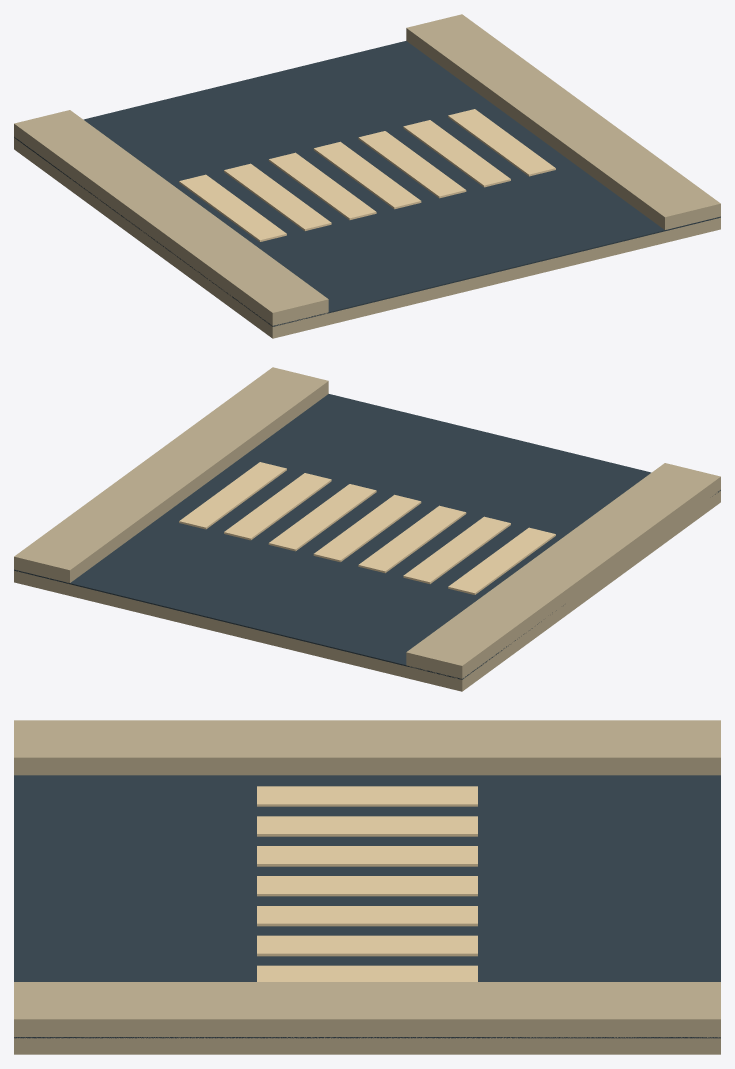
File: crosswalk.glb
The picture shows the model from 3 angles, top to bottom: view 1: azimuth 30°, elevation 25°; view 2: azimuth 150°, elevation 25°; view 3: azimuth 270°, elevation 25°; orthographic projection. The views are drawn at different scales.
Parts seen in each view (by area): view 1: asphalt, closed_edge.001, closed_edge, tile, corner_pavement, corner_pavement.002, zebra.004, zebra.006, zebra.003, zebra.005, zebra.002, zebra (+3 smaller); view 2: asphalt, closed_edge.001, closed_edge, tile, corner_pavement.001, corner_pavement.003, zebra.004, zebra.006, zebra.003, zebra.005, zebra.002, zebra (+3 smaller); view 3: asphalt, closed_edge.001, closed_edge, tile, corner_pavement, corner_pavement.001, corner_pavement.002, corner_pavement.003, zebra.005, zebra, zebra.001, zebra.002 (+3 smaller).
Boxes of the visible parts, x1=… form: asphalt: x1=14, y1=41, x2=720, y2=326; closed_edge.001: x1=46, y1=133, x2=295, y2=302; closed_edge: x1=438, y1=38, x2=687, y2=206; tile: x1=14, y1=138, x2=720, y2=338; corner_pavement: x1=240, y1=275, x2=328, y2=326; corner_pavement.002: x1=632, y1=180, x2=720, y2=229; zebra.004: x1=358, y1=131, x2=466, y2=198; zebra.006: x1=448, y1=109, x2=555, y2=176; zebra.003: x1=313, y1=141, x2=421, y2=209; zebra.005: x1=403, y1=120, x2=510, y2=187; zebra.002: x1=268, y1=152, x2=376, y2=220; zebra: x1=179, y1=174, x2=286, y2=241; asphalt: x1=14, y1=394, x2=720, y2=679; closed_edge.001: x1=439, y1=486, x2=688, y2=655; closed_edge: x1=47, y1=391, x2=296, y2=559; tile: x1=14, y1=491, x2=720, y2=691; corner_pavement.001: x1=406, y1=628, x2=494, y2=679; corner_pavement.003: x1=14, y1=533, x2=102, y2=583; zebra.004: x1=268, y1=484, x2=376, y2=551; zebra.006: x1=179, y1=462, x2=286, y2=529; zebra.003: x1=313, y1=494, x2=421, y2=562; zebra.005: x1=224, y1=473, x2=331, y2=540; zebra.002: x1=358, y1=505, x2=466, y2=573; zebra: x1=448, y1=527, x2=555, y2=594; asphalt: x1=14, y1=775, x2=720, y2=1038; closed_edge.001: x1=102, y1=720, x2=632, y2=775; closed_edge: x1=102, y1=982, x2=632, y2=1038; tile: x1=14, y1=1038, x2=720, y2=1054; corner_pavement: x1=14, y1=720, x2=102, y2=775; corner_pavement.001: x1=632, y1=720, x2=720, y2=775; corner_pavement.002: x1=14, y1=982, x2=102, y2=1038; corner_pavement.003: x1=632, y1=982, x2=720, y2=1037; zebra.005: x1=257, y1=935, x2=477, y2=956; zebra: x1=257, y1=786, x2=477, y2=806; zebra.001: x1=257, y1=816, x2=477, y2=836; zebra.002: x1=257, y1=846, x2=477, y2=866.
Size of the model in its own units: 4 by 0.22 by 4.
